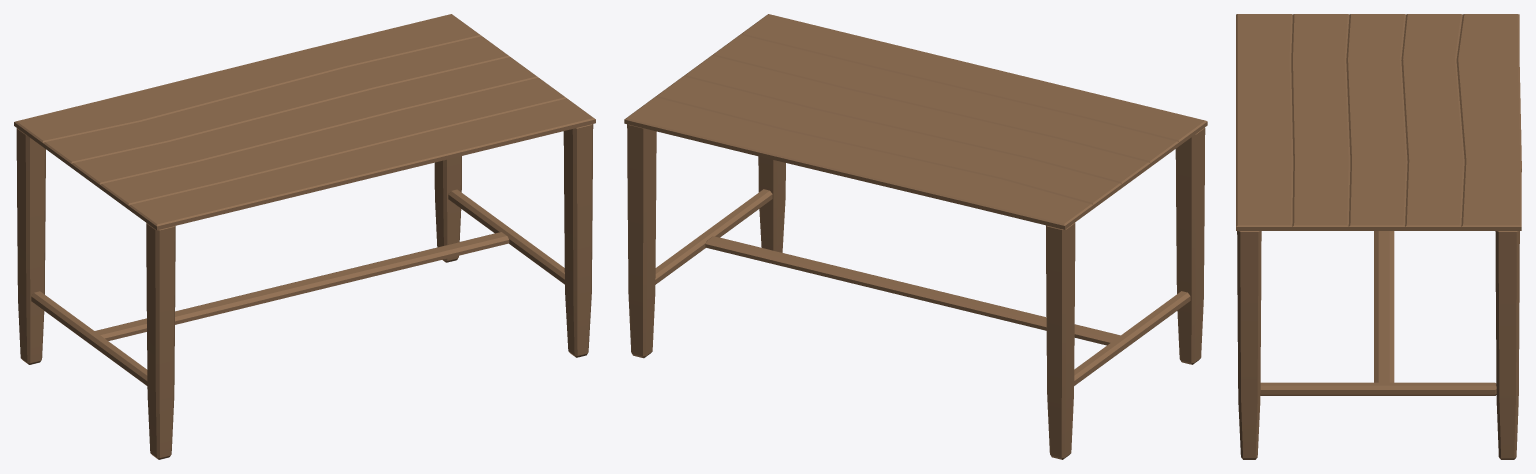
Rendered from table_a001.glb.
The picture shows the model from 3 angles, left to right: view 1: azimuth 30°, elevation 25°; view 2: azimuth 150°, elevation 25°; view 3: azimuth 270°, elevation 25°; orthographic projection.
Parts seen in each view (by area): view 1: table_a001; view 2: table_a001; view 3: table_a001.
Boxes of the visible parts, x1,y1,x2,y2 form: table_a001: [14, 14, 595, 459]; table_a001: [624, 14, 1207, 459]; table_a001: [1236, 14, 1521, 459].
Size of the model in its own units: 1.24 by 0.6416 by 0.7021.
1 material, 1 textured.
